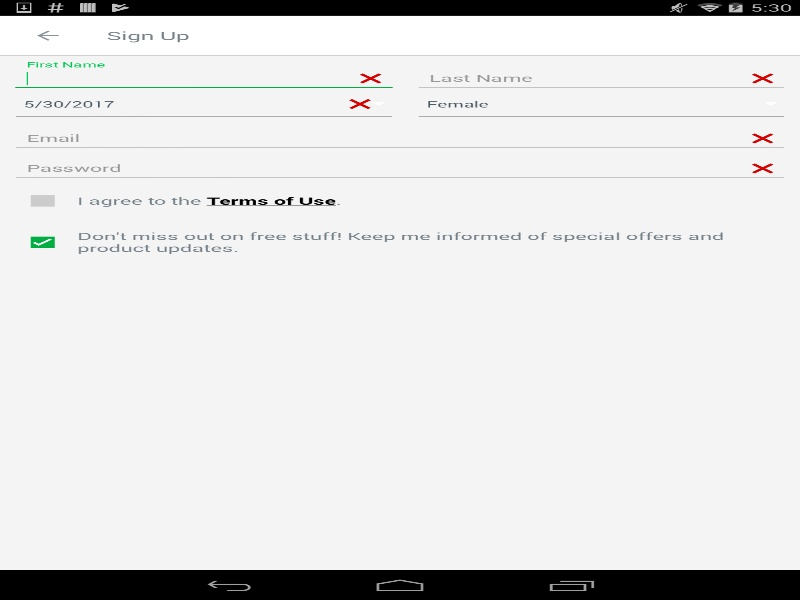Button: (10, 15, 85, 55)
Input: (10, 127, 789, 150), (10, 157, 789, 180), (10, 67, 397, 90), (413, 67, 789, 90)
